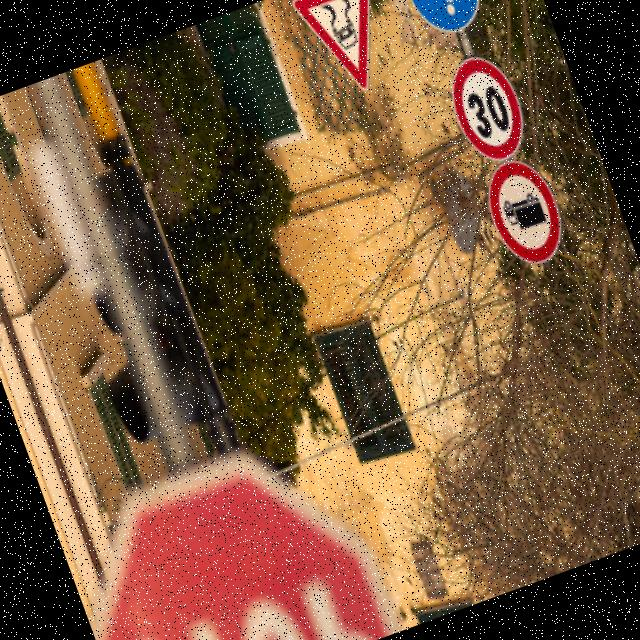road_slippery: (287, 0, 406, 108)
speed_limit_30: (440, 46, 542, 172)
